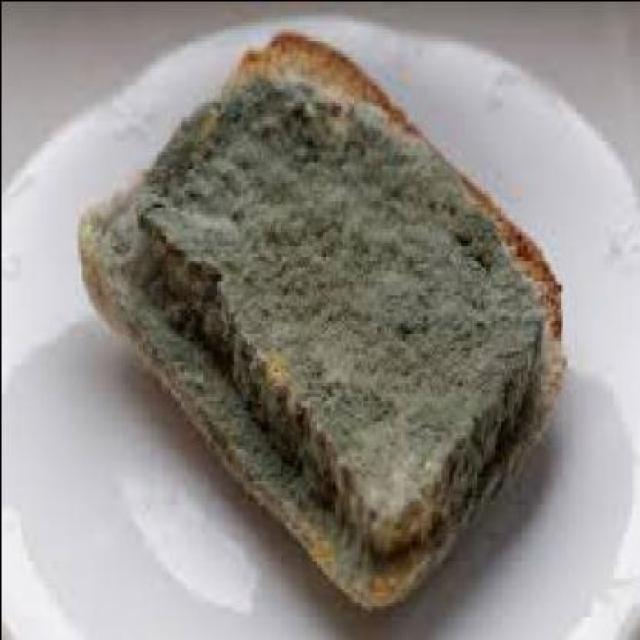BIODEGRADABLE: (82, 32, 561, 609)
